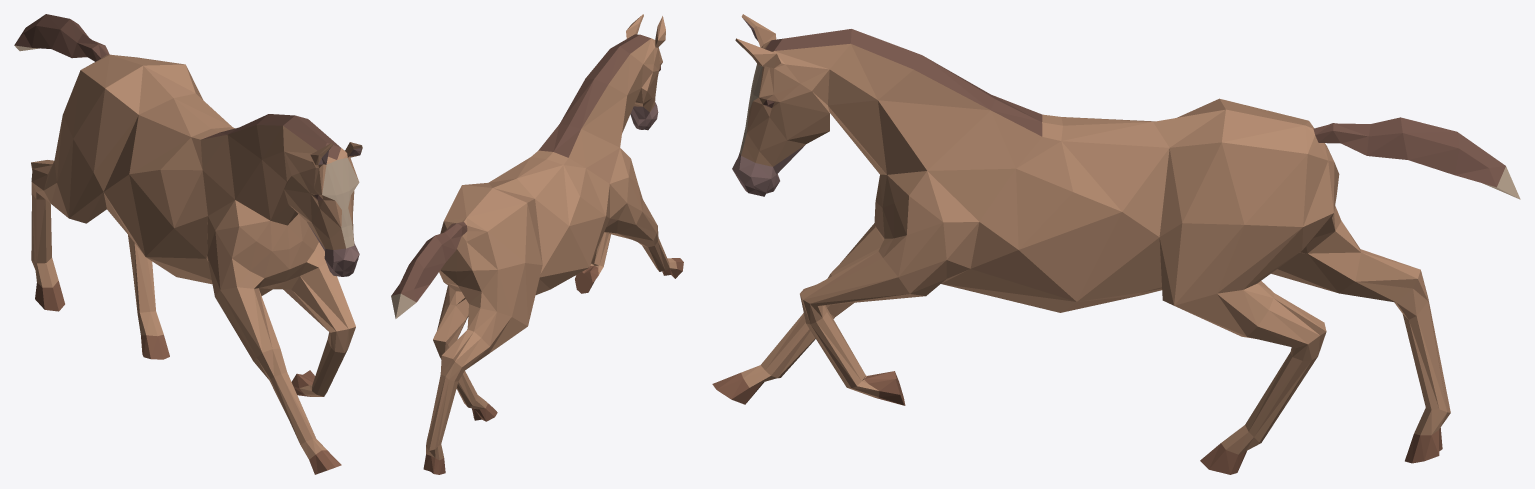
File: Horse.glb
The picture shows the model from 3 angles, left to right: view 1: azimuth 30°, elevation 25°; view 2: azimuth 150°, elevation 25°; view 3: azimuth 270°, elevation 25°; orthographic projection. The views are drawn at different scales.
Visible parts, largest first — view 1: mesh_0; view 2: mesh_0; view 3: mesh_0.
Part boxes in pixels (<box>): mesh_0: <box>14,14,362,474</box>; mesh_0: <box>391,14,683,474</box>; mesh_0: <box>712,14,1520,474</box>.
Bounding box in the file's own units: 60.4 × 175 × 288.
